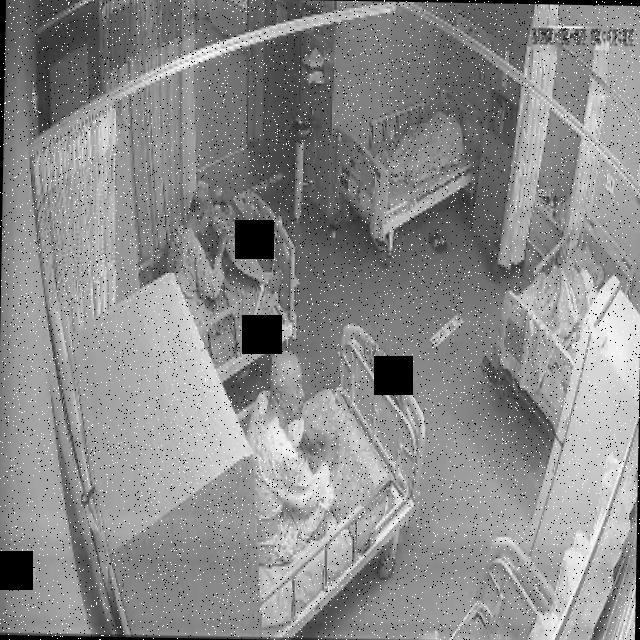bed: (248, 323, 427, 640), (492, 210, 638, 435), (169, 193, 297, 386), (333, 85, 478, 242)
lie: (533, 255, 609, 340)
patient: (244, 348, 341, 570), (168, 190, 284, 334), (574, 259, 609, 311)
sit: (247, 352, 341, 571), (167, 190, 286, 346)
